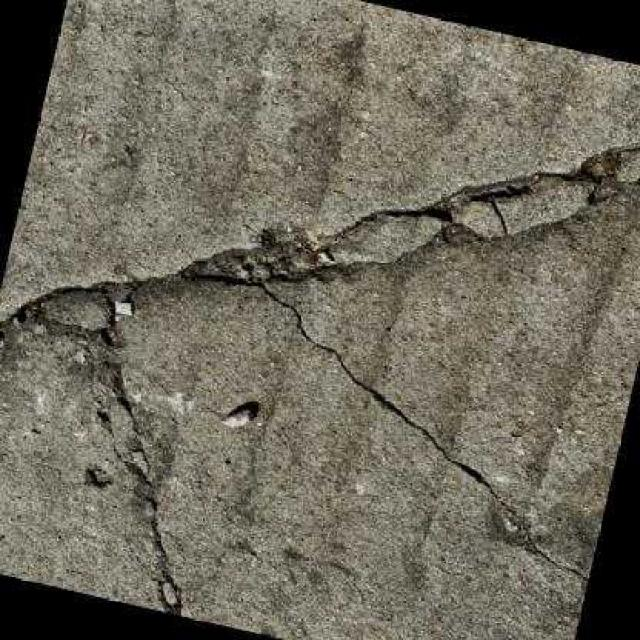D00: (168, 271, 589, 586), (329, 139, 640, 247), (105, 394, 192, 616)
